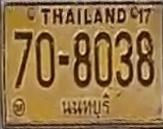0: (36, 31, 54, 86), (94, 31, 112, 86)
3: (114, 31, 132, 86)
7: (14, 31, 32, 85)
8: (73, 32, 91, 86), (136, 31, 153, 86)
NBI: (58, 92, 119, 125)
